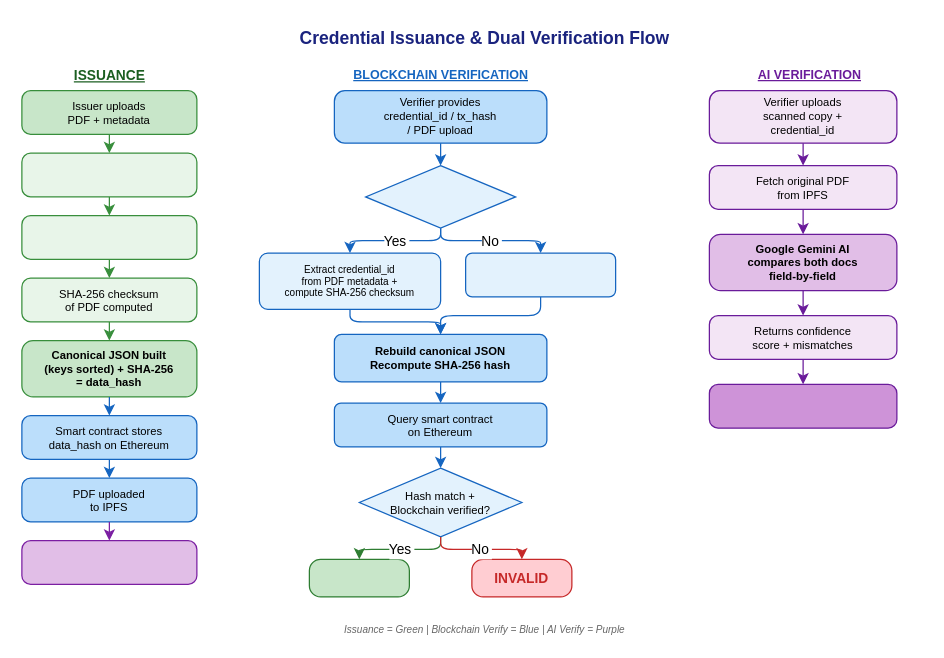
This 944x658 diagram has some shape labels left out. Here are the shapes that lost their labels. From the top down, the centre of each, then its label:
At (109,174): "AI extracts fields via OCR (Tesseract)".
At (440,196): "Is PDF upload?".
At (109,236): "credential_id embedded in PDF".
At (540,274): "Fetch credential from DB by ID".
At (802,405): "MATCH / NO MATCH (with confidence %)".
At (109,561): "DB updated with tx_hash + ipfs_cid".
At (358,577): "VALID".
